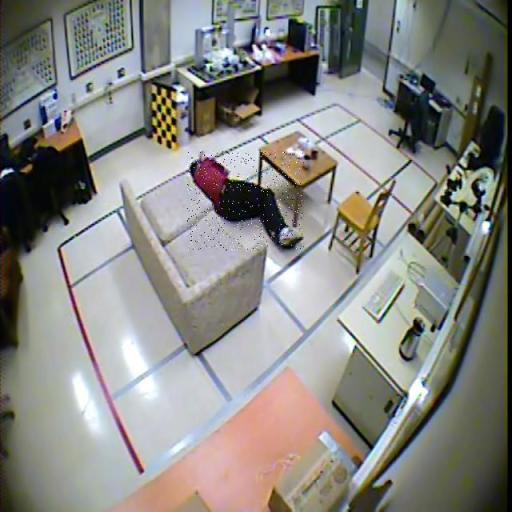Fall: (187, 151, 304, 251)
